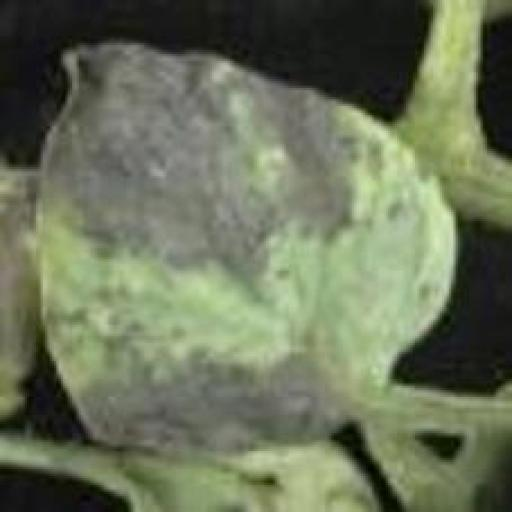disease_tomato: (36, 40, 460, 462)
